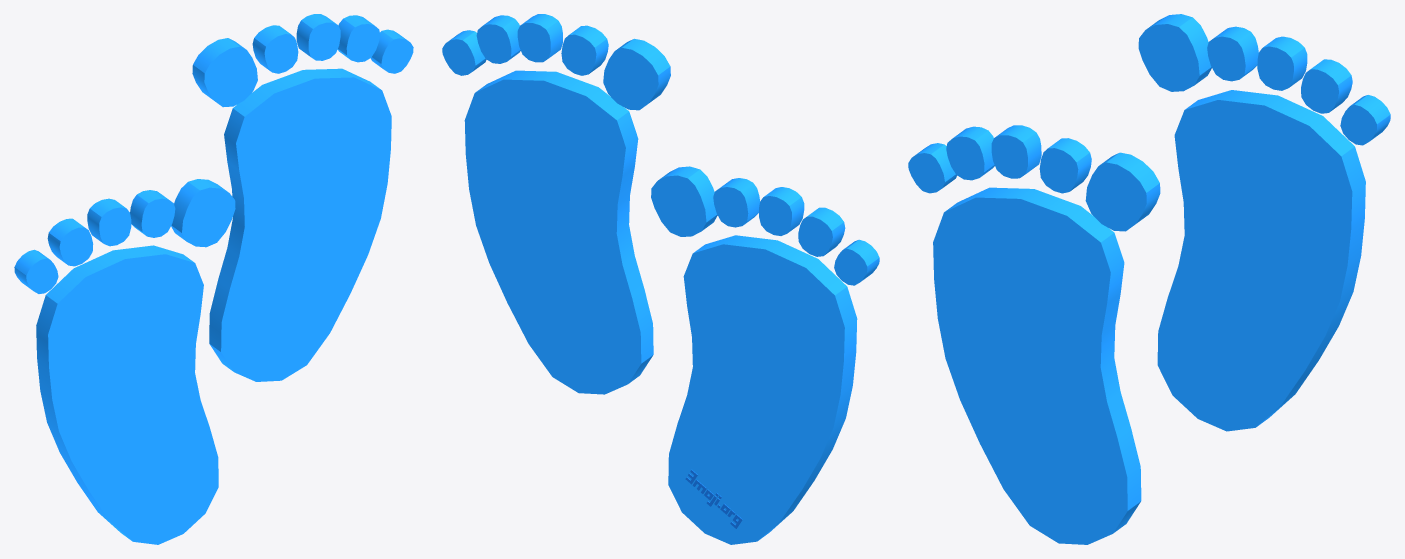
Rendered from footprints.glb.
3 renders of one model, left to right at view 1: azimuth 30°, elevation 25°; view 2: azimuth 150°, elevation 25°; view 3: azimuth 330°, elevation 25°, orthographic. The views are drawn at different scales.
Parts seen in each view (by area): view 1: Plane.099; view 2: Plane.099; view 3: Plane.099.
Part boxes in pixels (x1,y1,x2,y2): Plane.099: [14, 14, 413, 544]; Plane.099: [442, 14, 879, 544]; Plane.099: [908, 14, 1390, 544].
Size of the model in its own units: 1.82 by 2.04 by 0.1882.
1 material, 1 textured.
